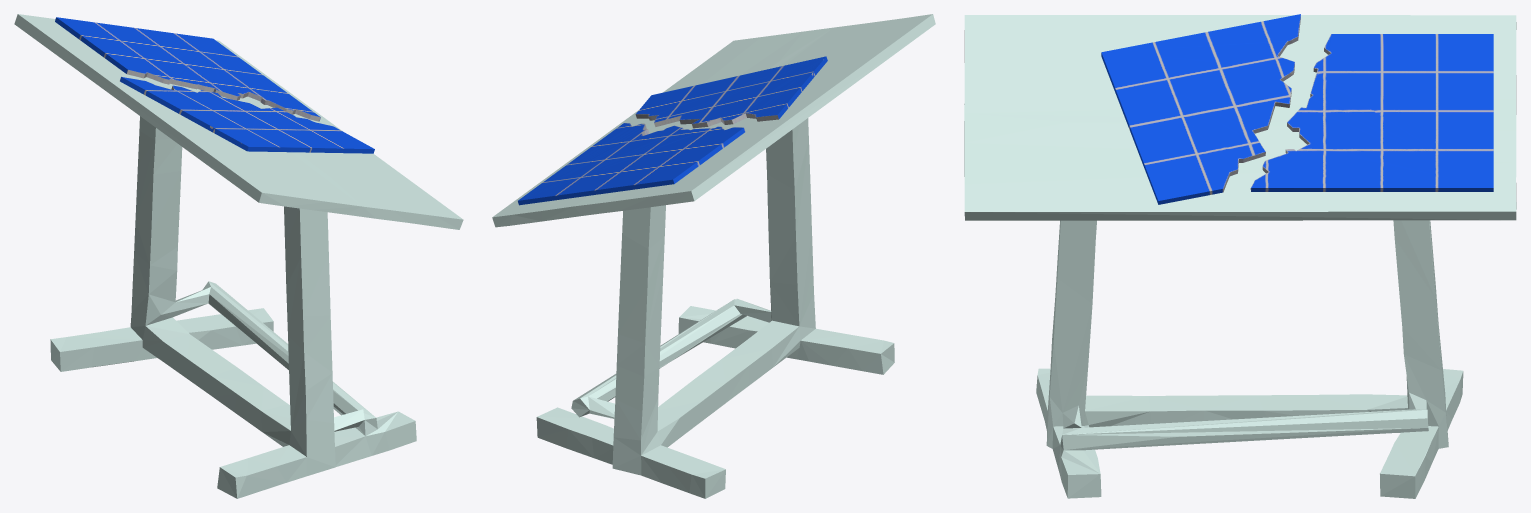
The model's file is zeichentischKaputtMitPapiert.glb.
3 views of the same model, side by side, from view 1: azimuth 30°, elevation 25°; view 2: azimuth 150°, elevation 25°; view 3: azimuth 270°, elevation 25° (orthographic). The views are drawn at different scales.
Visible parts, largest first — view 1: 283513_23_06_15_20_25_02_0, 300570_23_06_15_11_51_43_2, 300570_23_06_15_11_51_43_1; view 2: 283513_23_06_15_20_25_02_0, 300570_23_06_15_11_51_43_2, 300570_23_06_15_11_51_43_1; view 3: 283513_23_06_15_20_25_02_0, 300570_23_06_15_11_51_43_2, 300570_23_06_15_11_51_43_1.
Boxes of the visible parts, x1,y1,x2,y2 form: 283513_23_06_15_20_25_02_0: (14,14,463,498); 300570_23_06_15_11_51_43_2: (55,17,320,121); 300570_23_06_15_11_51_43_1: (120,76,374,153); 283513_23_06_15_20_25_02_0: (492,14,935,498); 300570_23_06_15_11_51_43_2: (518,123,745,205); 300570_23_06_15_11_51_43_1: (635,56,827,128); 283513_23_06_15_20_25_02_0: (964,15,1516,498); 300570_23_06_15_11_51_43_2: (1250,34,1493,191); 300570_23_06_15_11_51_43_1: (1101,14,1300,204).
Size of the model in its own units: 3.82 by 5.99 by 7.9.
Materials: 3 (3 with a texture image).
